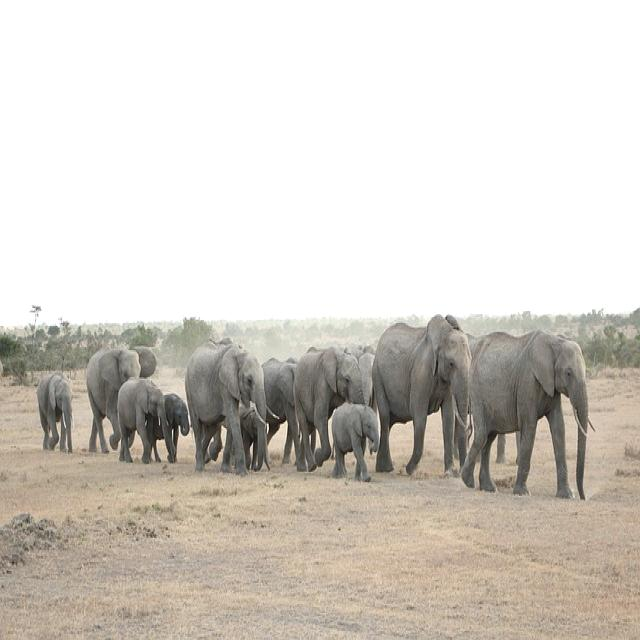FIL: (462, 332, 592, 500), (370, 322, 468, 476), (187, 341, 267, 478), (293, 354, 367, 470), (87, 346, 154, 460), (118, 377, 176, 462), (328, 405, 381, 487), (33, 373, 74, 455), (221, 405, 271, 469)
